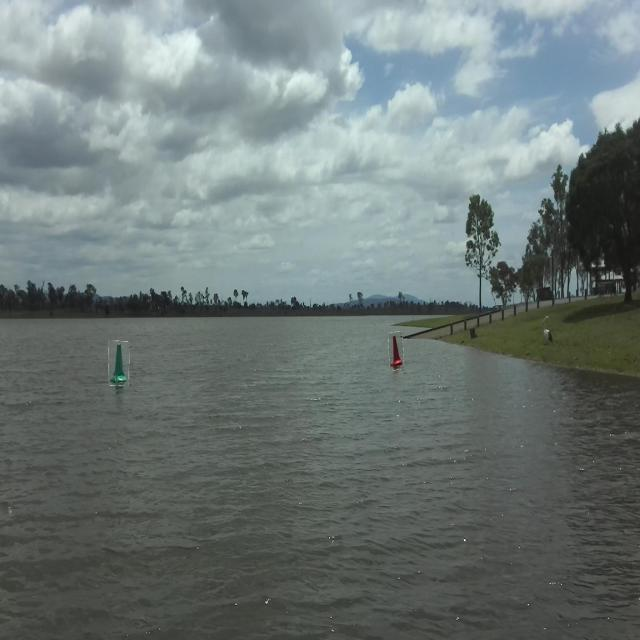Green_Buoy: (110, 337, 136, 394)
Red_Buoy: (384, 326, 404, 376)
